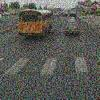buses: (18, 10, 54, 38)
